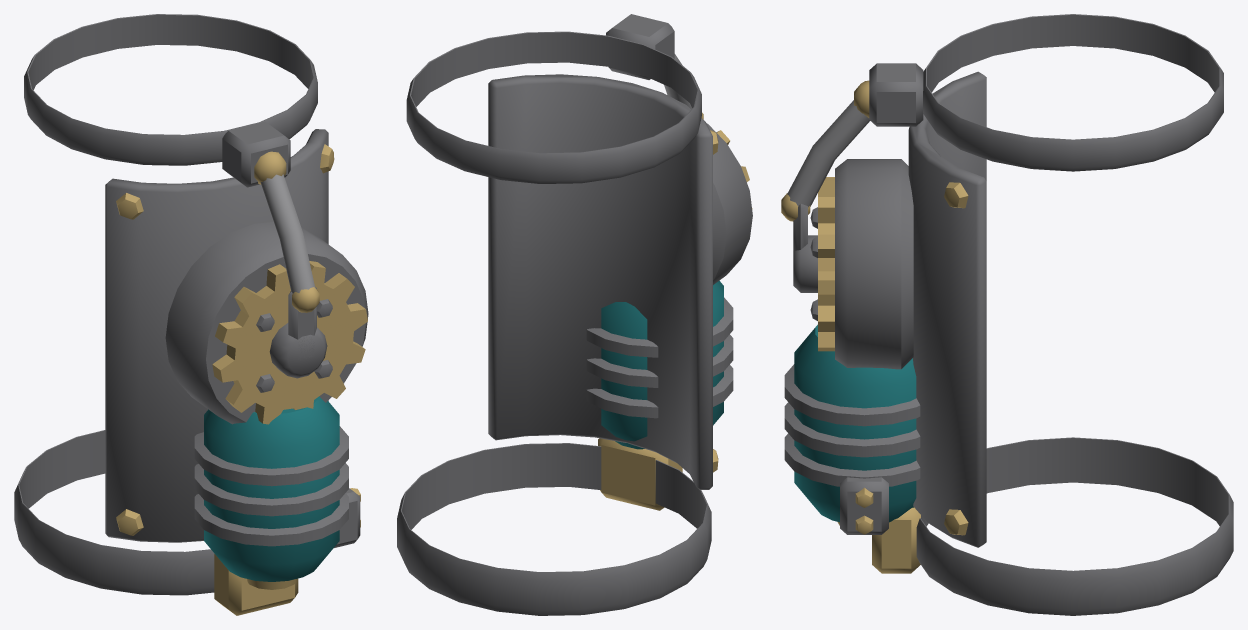
The model's file is Kit_Mod_Servo.glb.
The picture shows the model from 3 angles, left to right: view 1: azimuth 30°, elevation 25°; view 2: azimuth 150°, elevation 25°; view 3: azimuth 270°, elevation 25°; orthographic projection. The views are drawn at different scales.
Parts seen in each view (by area): view 1: Kit_Mod_Servo; view 2: Kit_Mod_Servo; view 3: Kit_Mod_Servo.
Part boxes in pixels (x1,y1,x2,y2): Kit_Mod_Servo: (14,14,368,615); Kit_Mod_Servo: (397,14,752,615); Kit_Mod_Servo: (781,14,1233,615).
Size of the model in its own units: 0.132 by 0.219 by 0.1842.
